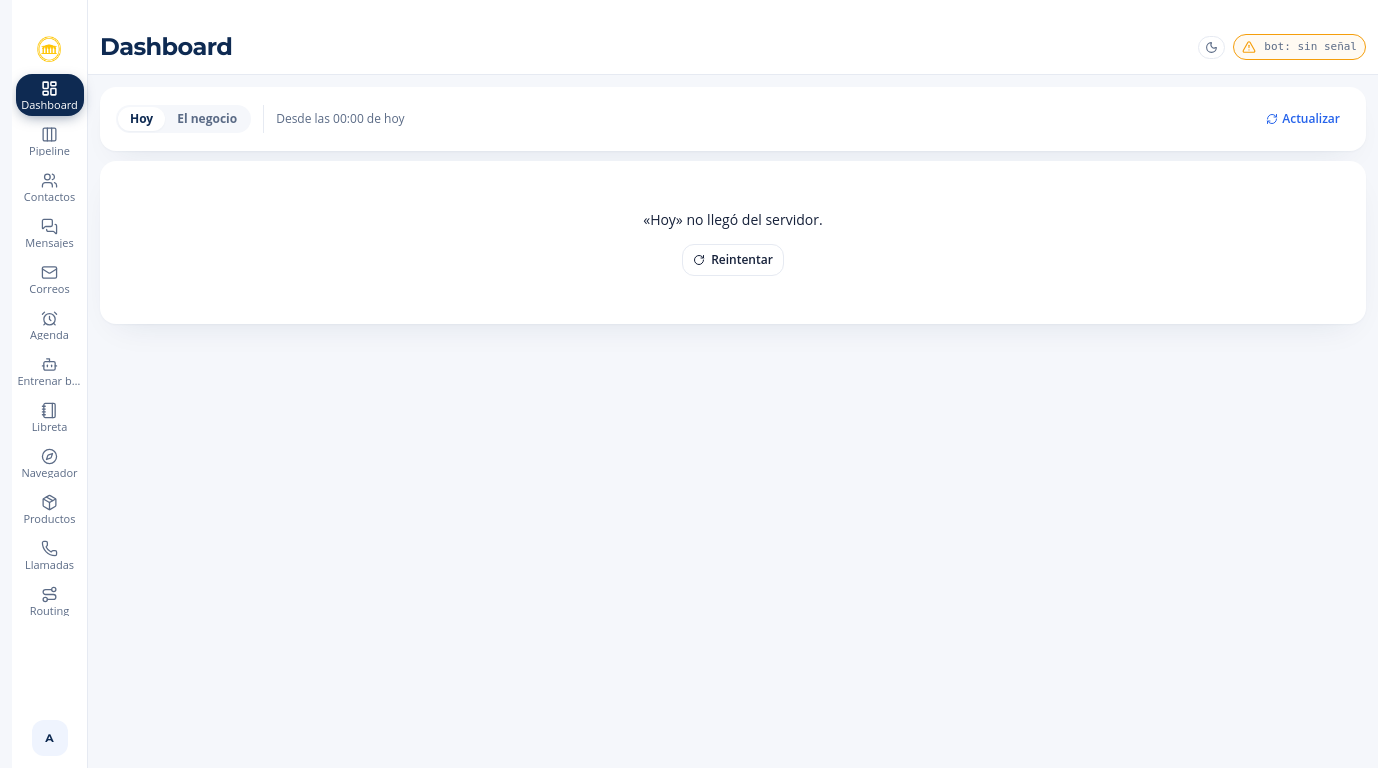
Test: Routing, la décima vista › se abre desde el riel y monta la vista de verdad
Click the button "Routing" at (50, 601), box [16,580,84,622]
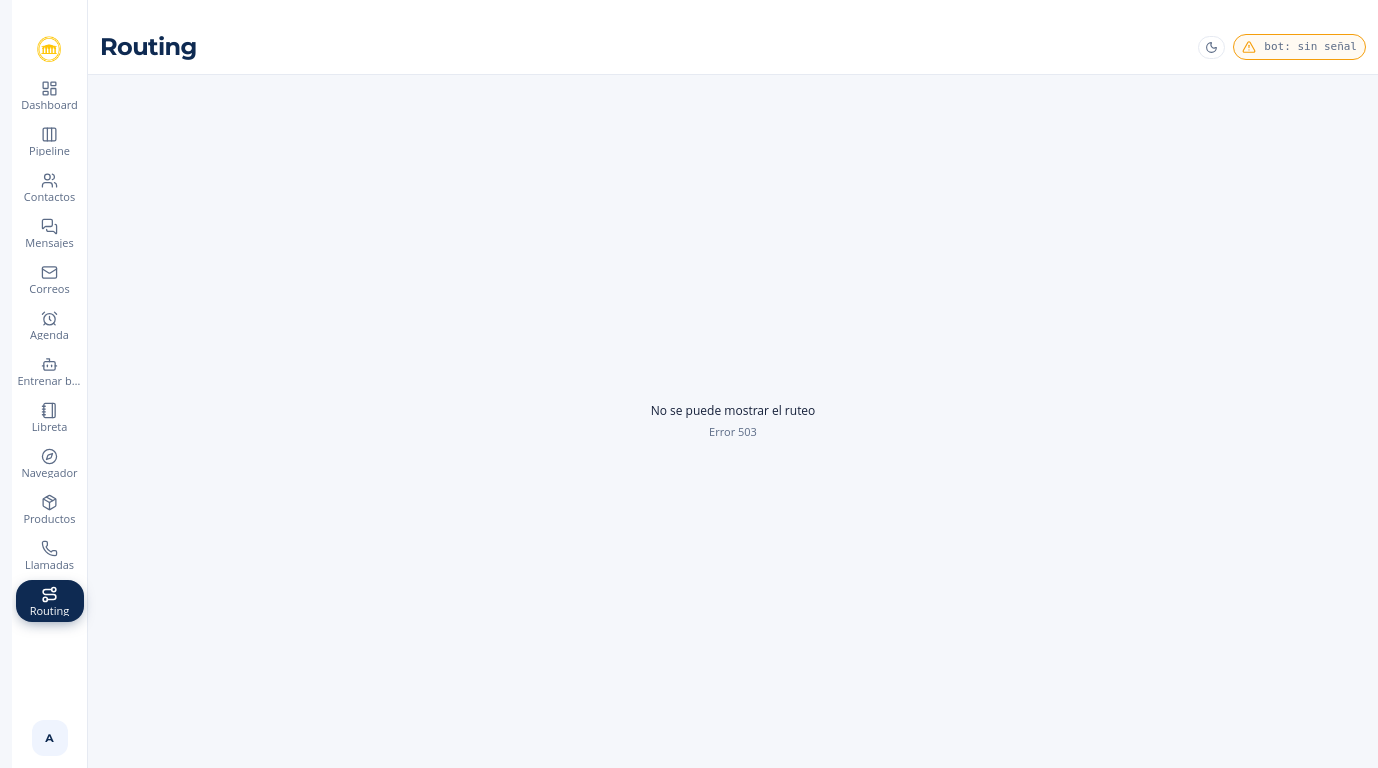
Expected: the text "Routing" is shown, [28,605,71,616]
Now the text "No se puede mostrar el ruteo" is shown, box [651,403,815,419]
